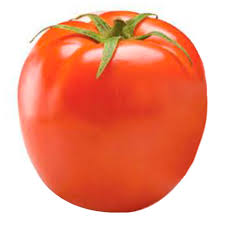tomate: (14, 11, 211, 206)
